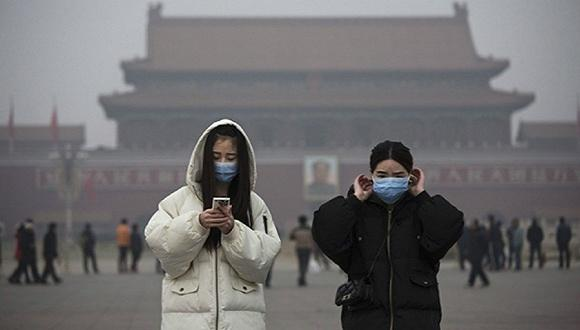person: (142, 118, 281, 330), (311, 140, 464, 330), (7, 218, 45, 285), (288, 215, 315, 287), (463, 219, 491, 288), (7, 221, 33, 285), (39, 222, 64, 285), (79, 223, 100, 275), (505, 217, 524, 272), (484, 214, 502, 272), (115, 218, 133, 274), (555, 216, 573, 270), (526, 217, 544, 270), (455, 218, 471, 269), (491, 220, 507, 270), (129, 224, 145, 271)
